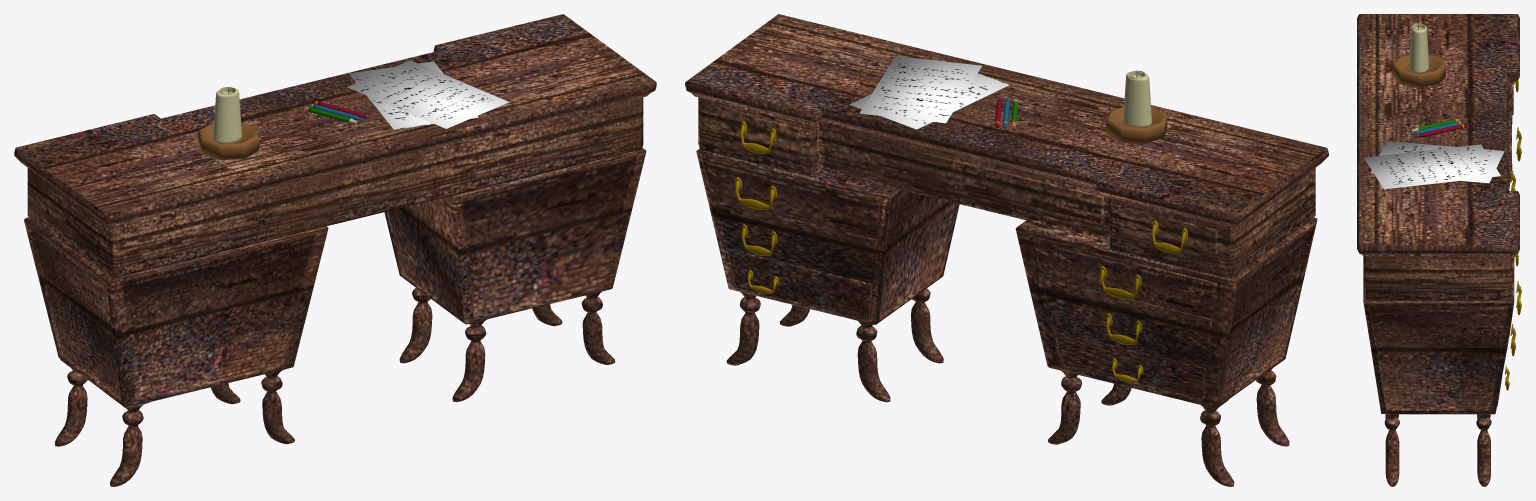
File: baked desk.fbx
3 views of the same model, side by side, from view 1: azimuth 30°, elevation 25°; view 2: azimuth 150°, elevation 25°; view 3: azimuth 270°, elevation 25° (orthographic). The views are drawn at different scales.
Parts seen in each view (by area): view 1: Desk_things_1; view 2: Desk_things_1; view 3: Desk_things_1.
Boxes of the visible parts, x1=… form: Desk_things_1: x1=14, y1=14, x2=656, y2=486; Desk_things_1: x1=685, y1=14, x2=1328, y2=486; Desk_things_1: x1=1357, y1=14, x2=1521, y2=486.
Size of the model in its own units: 166 by 101 by 49.46.
1 material, 1 textured.
